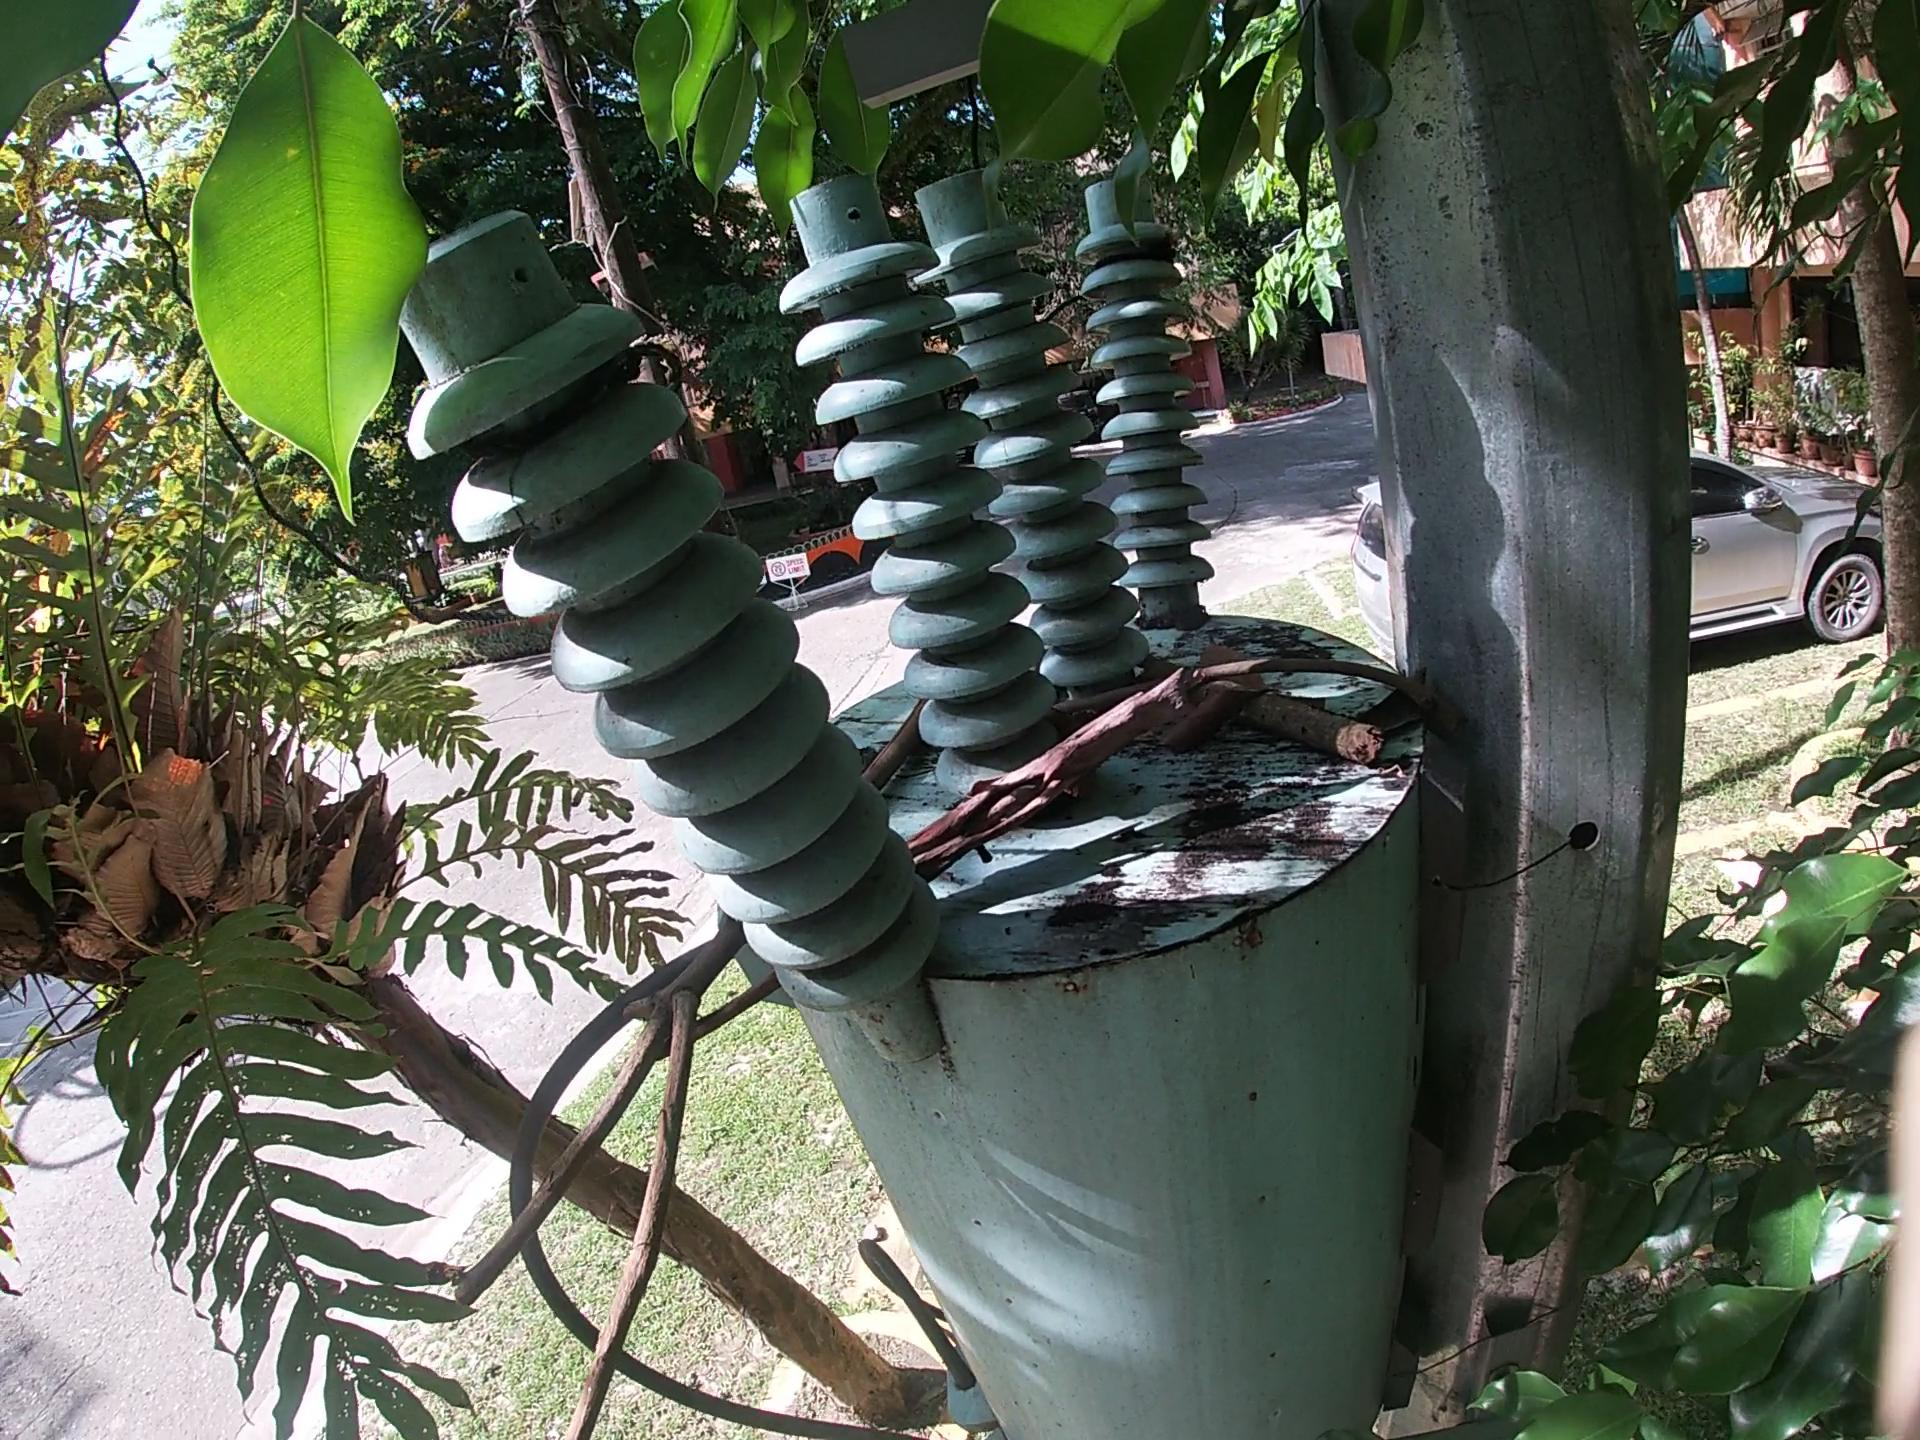leaf: (1164, 690, 1238, 746), (1209, 644, 1277, 696), (1392, 672, 1438, 728)
tree branch: (437, 933, 736, 1429), (903, 663, 1219, 876), (1234, 697, 1379, 774), (1191, 655, 1463, 694), (650, 982, 780, 1060), (856, 700, 922, 785), (1058, 682, 1132, 709)
